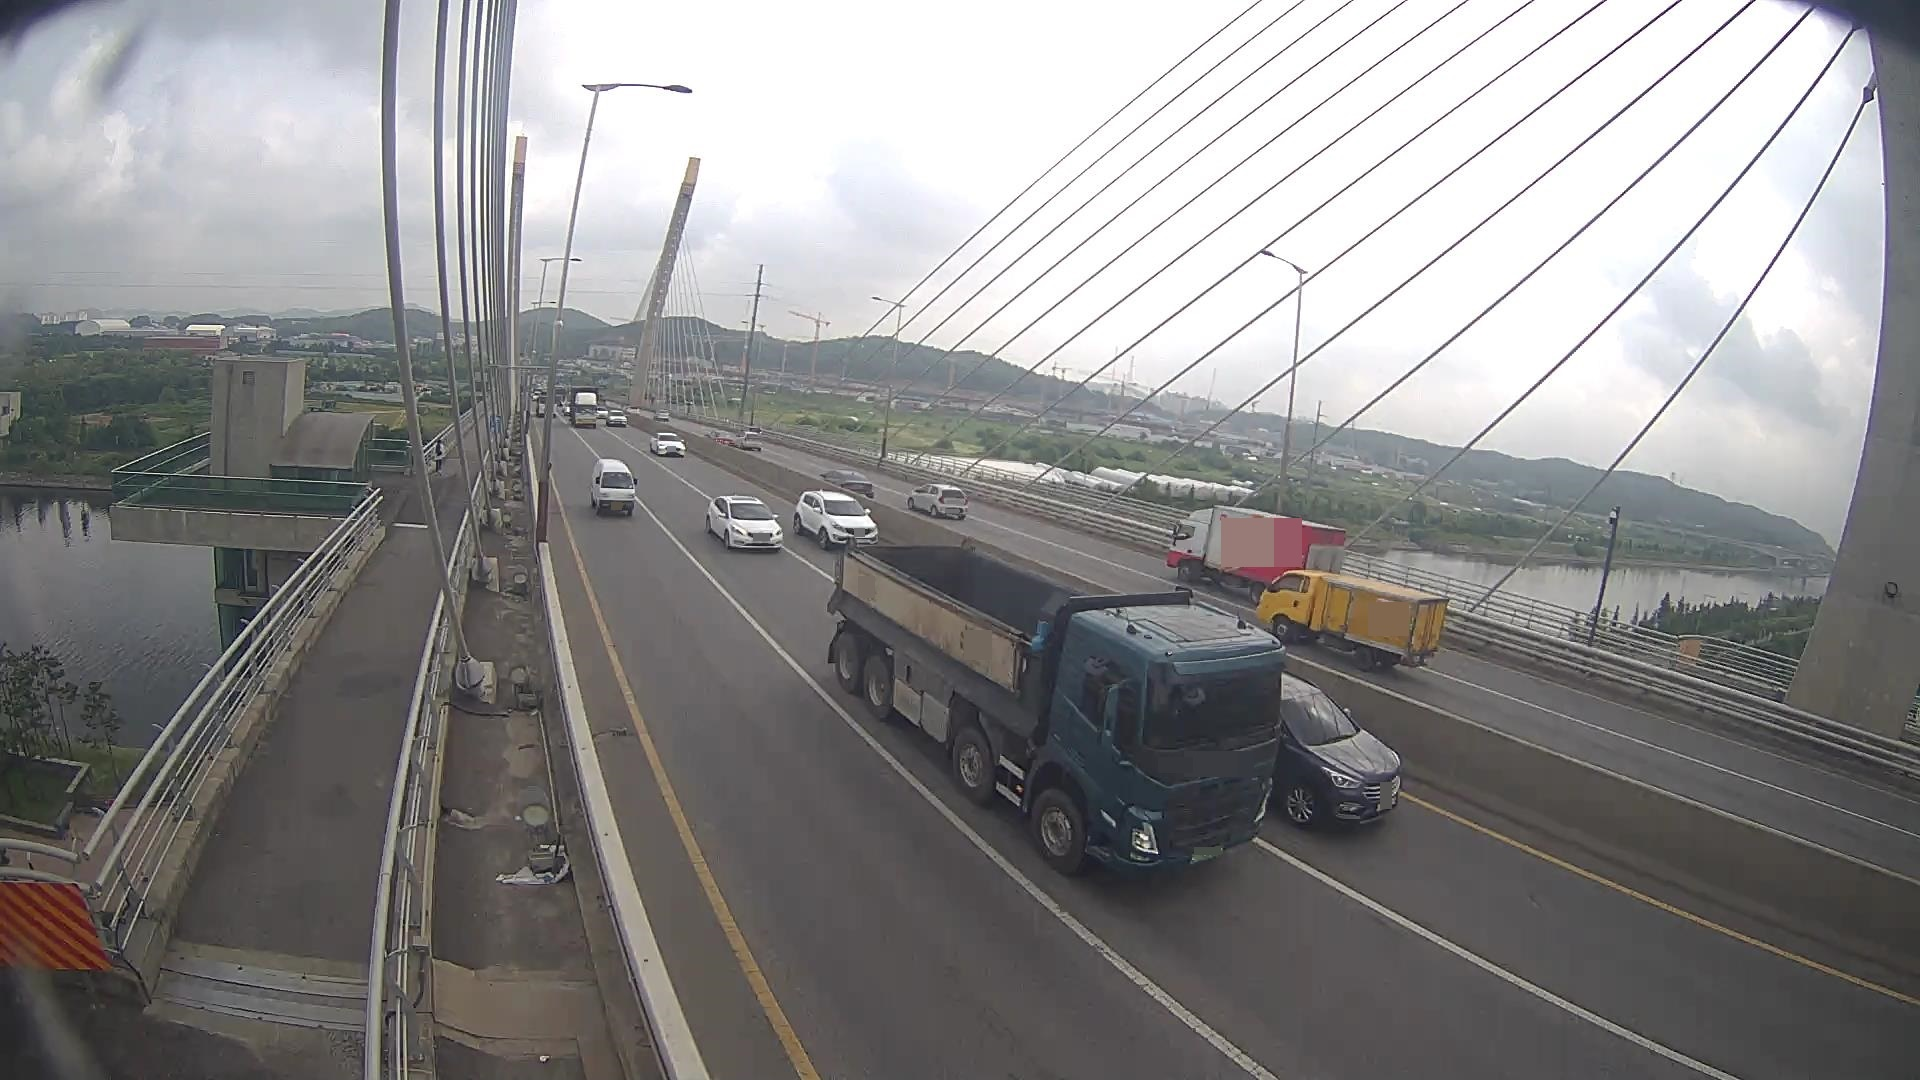정상차량: (827, 535, 1287, 878)
